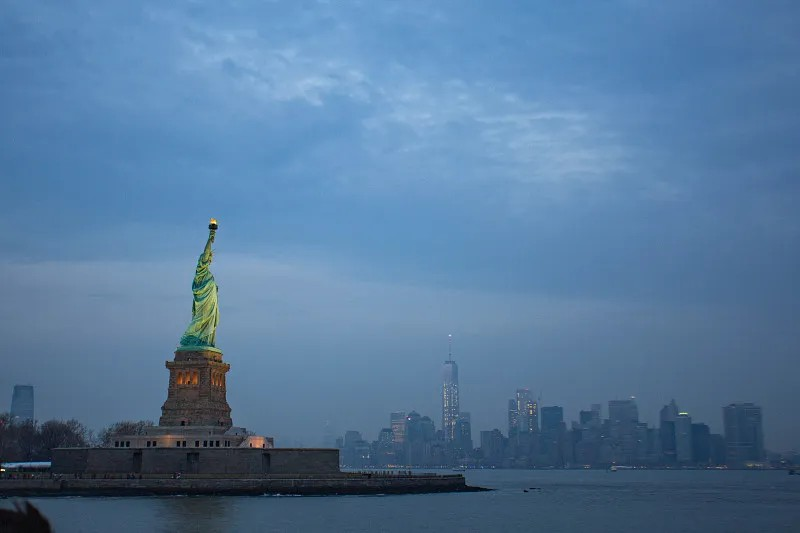SL: (158, 216, 233, 427)
